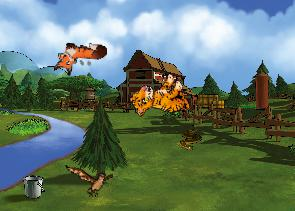eagle: (65, 159, 116, 200)
fox: (53, 39, 107, 78)
tiger: (126, 66, 195, 133)
